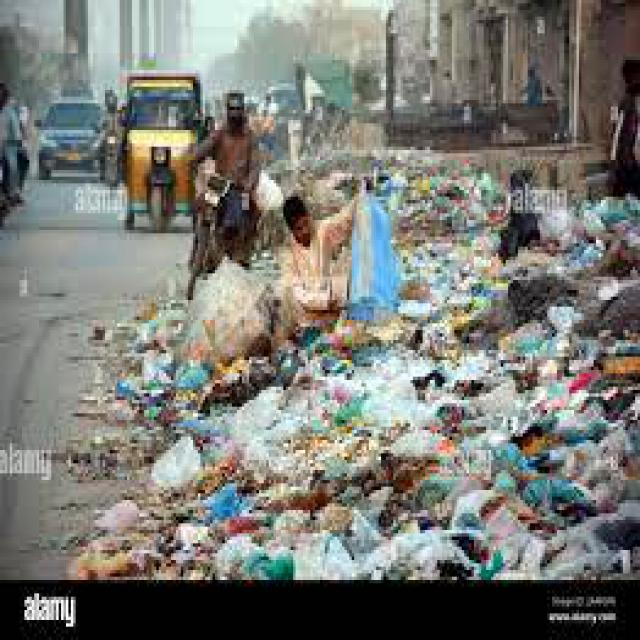garbage: (66, 270, 638, 580), (262, 93, 638, 270)
